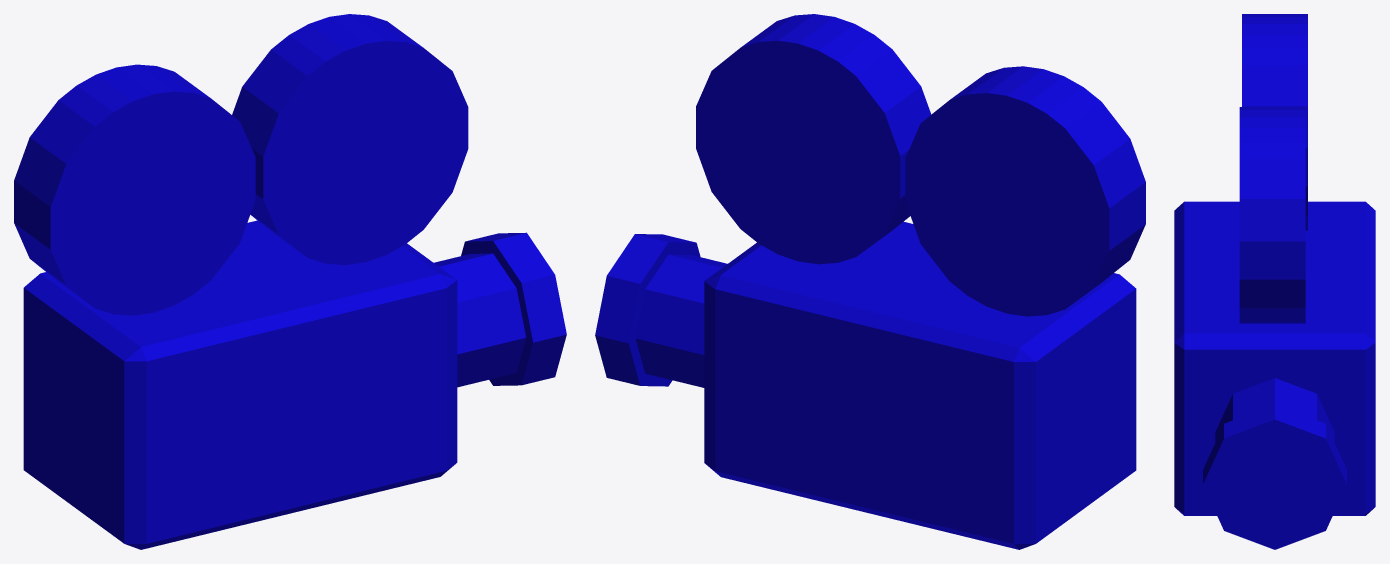
The model's file is camera optimized.glb.
The picture shows the model from 3 angles, left to right: view 1: azimuth 30°, elevation 25°; view 2: azimuth 150°, elevation 25°; view 3: azimuth 270°, elevation 25°; orthographic projection. The views are drawn at different scales.
Visible parts, largest first — view 1: body; view 2: body; view 3: body.
Boxes of the visible parts, x1,y1,x2,y2 form: body: (14, 14, 566, 549); body: (595, 14, 1145, 549); body: (1174, 14, 1375, 549).
Bounding box in the file's own units: 5.1 × 4.16 × 2.
